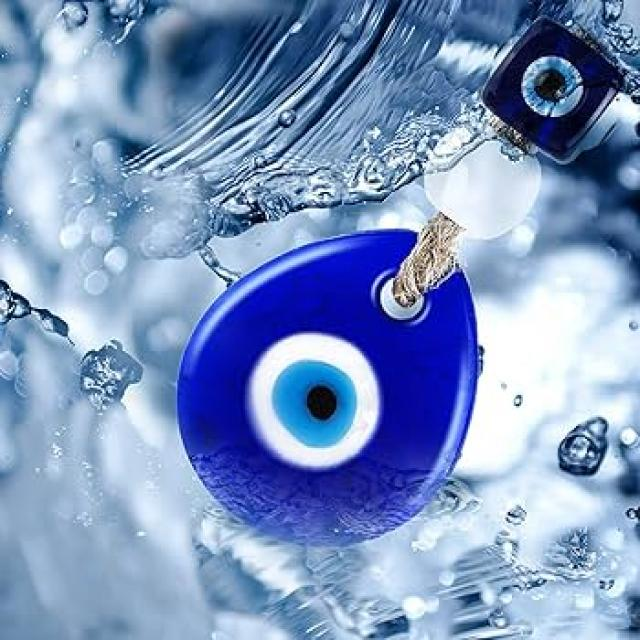Nazar-Boncugu: (177, 212, 485, 550)
